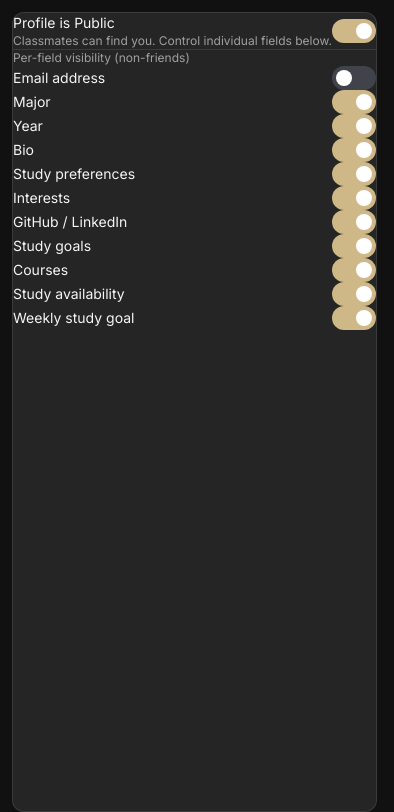
it: PrivacySettings › rolls back optimistic update and shows error on API failure
The width and height of the screenshot is (394, 812).
Click the button named "Bio: public".
click(354, 150)  # box [332, 138, 376, 162]
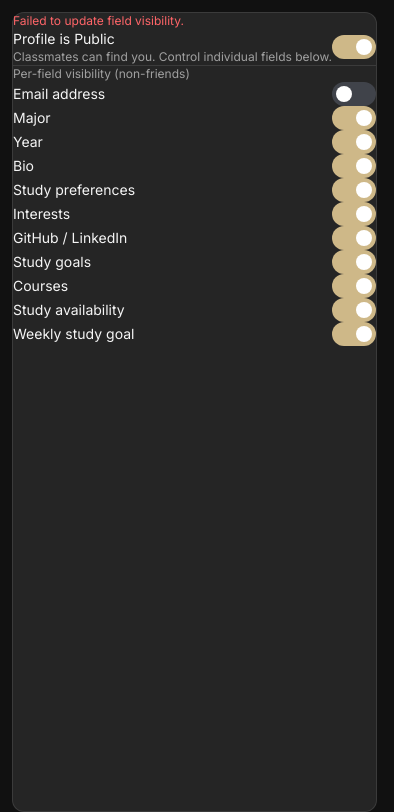
Expected: the button named "Bio: public" is shown, [332, 154, 376, 178]
Now the text "Failed to update field visibility." is shown, box [13, 13, 184, 28]
